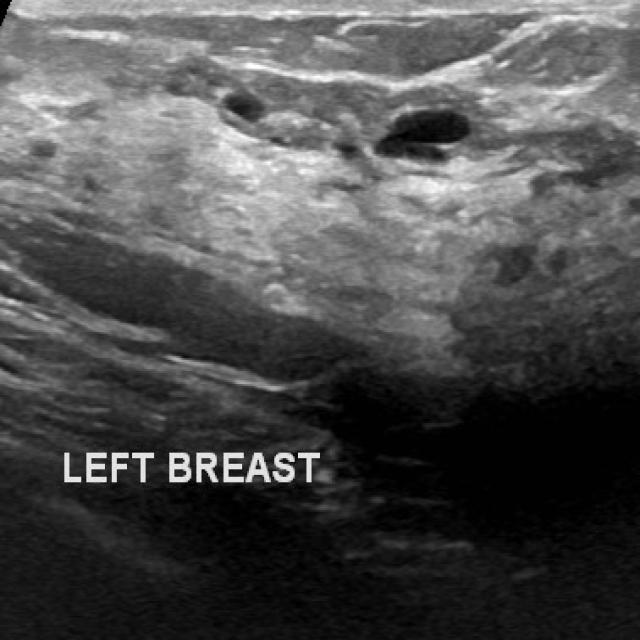Benign: (392, 104, 469, 164)
